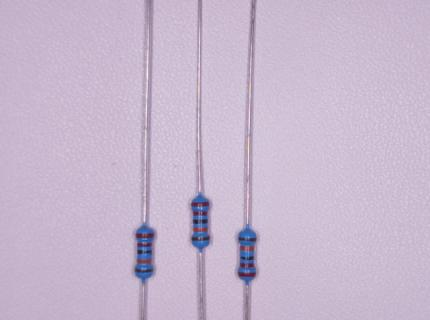Black band: (138, 249, 152, 254), (194, 220, 208, 224), (241, 257, 254, 260)
Brown band: (136, 268, 152, 273), (192, 237, 210, 241), (239, 237, 256, 241)
Orange band: (194, 227, 209, 232), (241, 246, 254, 251), (138, 259, 152, 263)
Red band: (136, 233, 154, 238), (192, 202, 210, 207), (239, 272, 256, 277), (194, 211, 208, 216), (138, 243, 152, 247), (240, 263, 254, 267)
